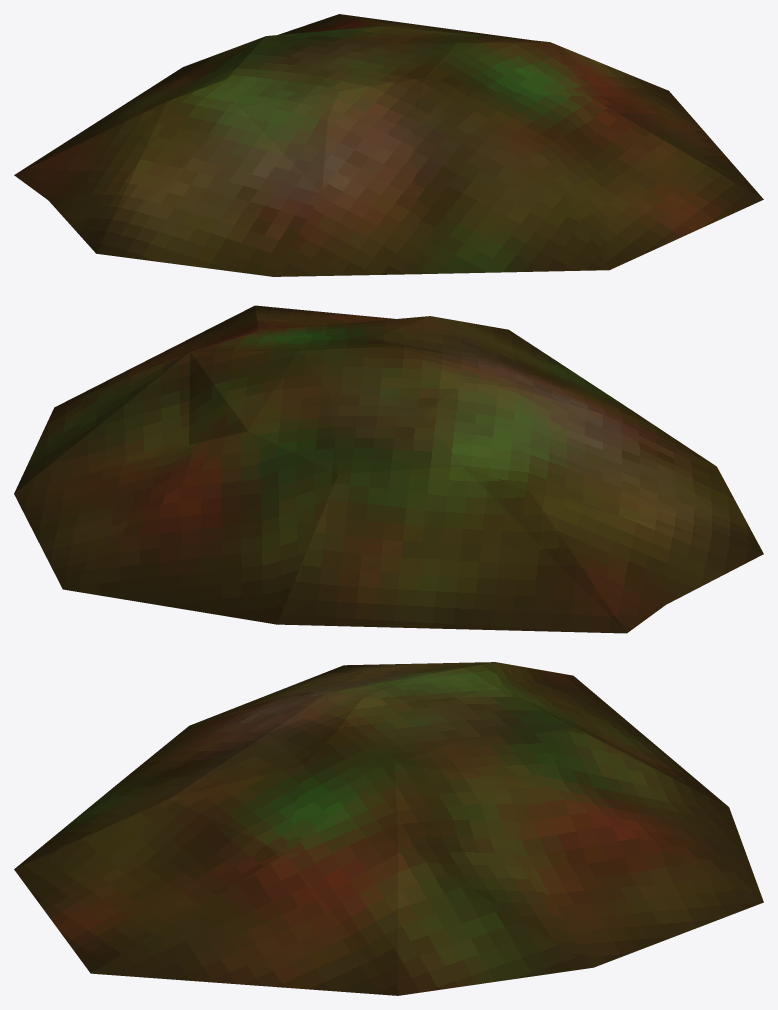
Rendered from clutterPileSmall.gltf.
The picture shows the model from 3 angles, top to bottom: view 1: azimuth 30°, elevation 25°; view 2: azimuth 150°, elevation 25°; view 3: azimuth 270°, elevation 25°; orthographic projection. The views are drawn at different scales.
Parts seen in each view (by area): view 1: plane; view 2: plane; view 3: plane.
Boxes of the visible parts, box(x1,y1,x2,y2) form: plane: box(14, 14, 763, 276); plane: box(14, 305, 763, 633); plane: box(14, 662, 763, 995).
Bounding box in the file's own units: 0.6282 × 0.1011 × 0.6021.
Materials: 1 (1 with a texture image).
